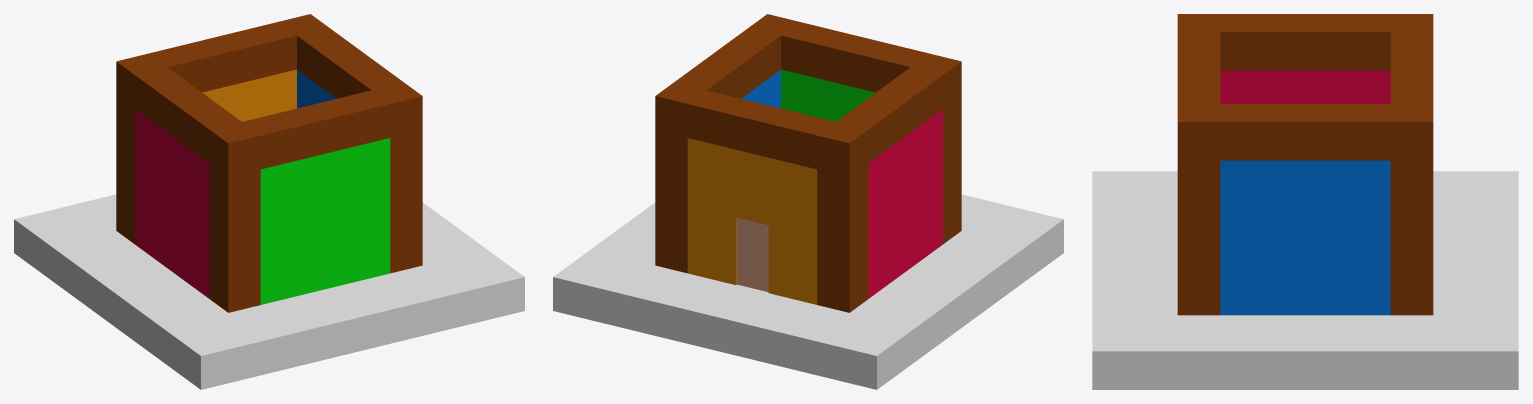
The model's file is Home.fbx.
3 views of the same model, side by side, from view 1: azimuth 30°, elevation 25°; view 2: azimuth 150°, elevation 25°; view 3: azimuth 270°, elevation 25° (orthographic). The views are drawn at different scales.
Parts seen in each view (by area): view 1: Cube, Cube.013, Cube.015, Cube.003, Cube.006, Cube.005, Cube.001, Cube.007, Cube.008, Cube.002, Cube.010, Cube.012 (+2 smaller); view 2: Cube, Cube.015, Cube.002, Cube.005, Cube.011, Cube.010, Cube.006, Cube.004, Cube.007, Cube.008, Cube.003, Cube.013 (+4 smaller); view 3: Cube, Cube.014, Cube.007, Cube.008, Cube.001, Cube.004, Cube.015, Cube.005, Cube.006, Cube.002, Cube.003.
Boxes of the visible parts, x1,y1,x2,y2 form: Cube: (14,194,524,389); Cube.013: (260,138,390,304); Cube.015: (135,109,209,298); Cube.003: (209,122,260,312); Cube.006: (242,90,390,169); Cube.005: (149,22,296,92); Cube.001: (372,82,422,273); Cube.007: (135,67,241,163); Cube.008: (297,28,403,98); Cube.002: (116,53,166,244); Cube.010: (248,69,296,120); Cube.012: (216,81,248,121); Cube: (553,194,1063,389); Cube.015: (868,109,942,298); Cube.002: (817,122,868,312); Cube.005: (687,90,835,169); Cube.011: (768,158,817,304); Cube.010: (687,138,736,284); Cube.006: (781,22,928,92); Cube.004: (655,82,705,273); Cube.007: (836,67,942,163); Cube.008: (674,28,780,98); Cube.003: (911,53,961,244); Cube.013: (781,69,875,121); Cube: (1092,171,1518,389); Cube.014: (1220,160,1390,315); Cube.007: (1220,14,1390,70); Cube.008: (1220,104,1390,160); Cube.001: (1177,104,1220,315); Cube.004: (1390,104,1433,315); Cube.015: (1220,70,1390,103); Cube.005: (1390,32,1433,103); Cube.006: (1177,32,1220,103); Cube.002: (1390,14,1433,31); Cube.003: (1177,14,1220,31).
Bounding box in the file's own units: 10 × 6 × 10.
